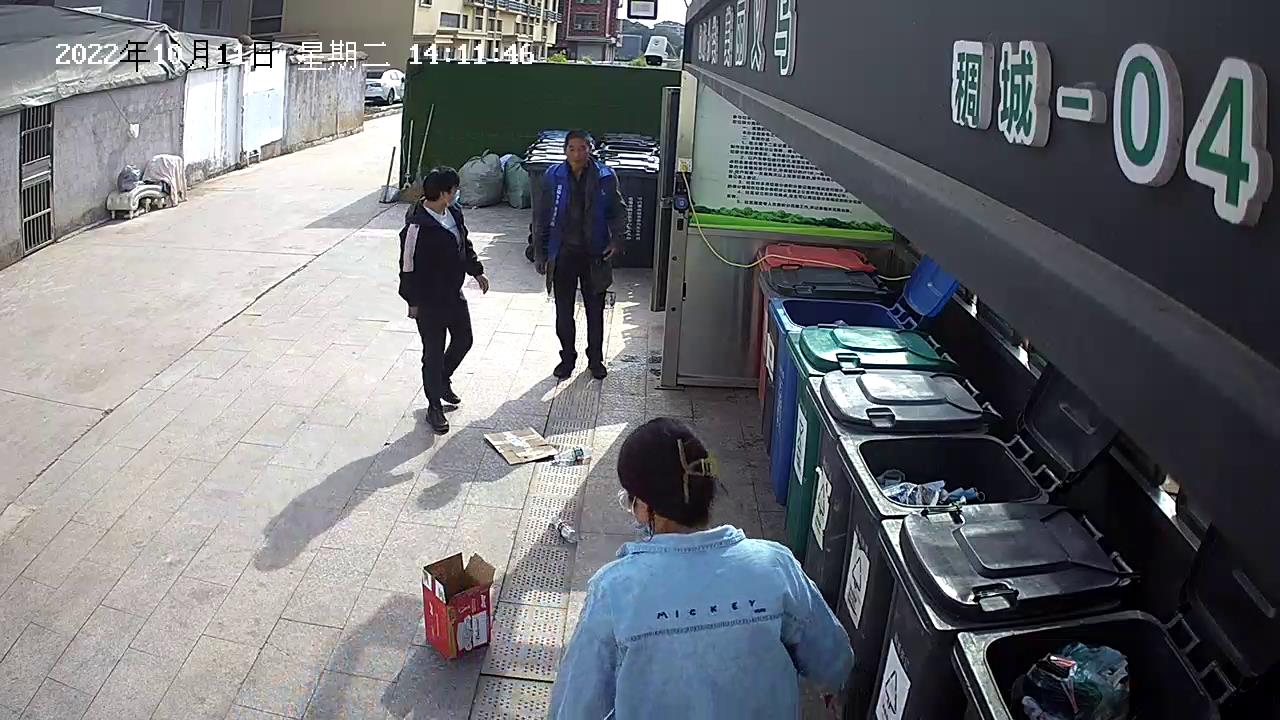person: (394, 161, 491, 435)
suliaozhipin: (545, 508, 579, 545), (551, 442, 595, 468)
worker: (543, 414, 856, 720), (528, 127, 629, 382)
zhizhipin: (420, 550, 499, 664), (481, 422, 558, 466)
